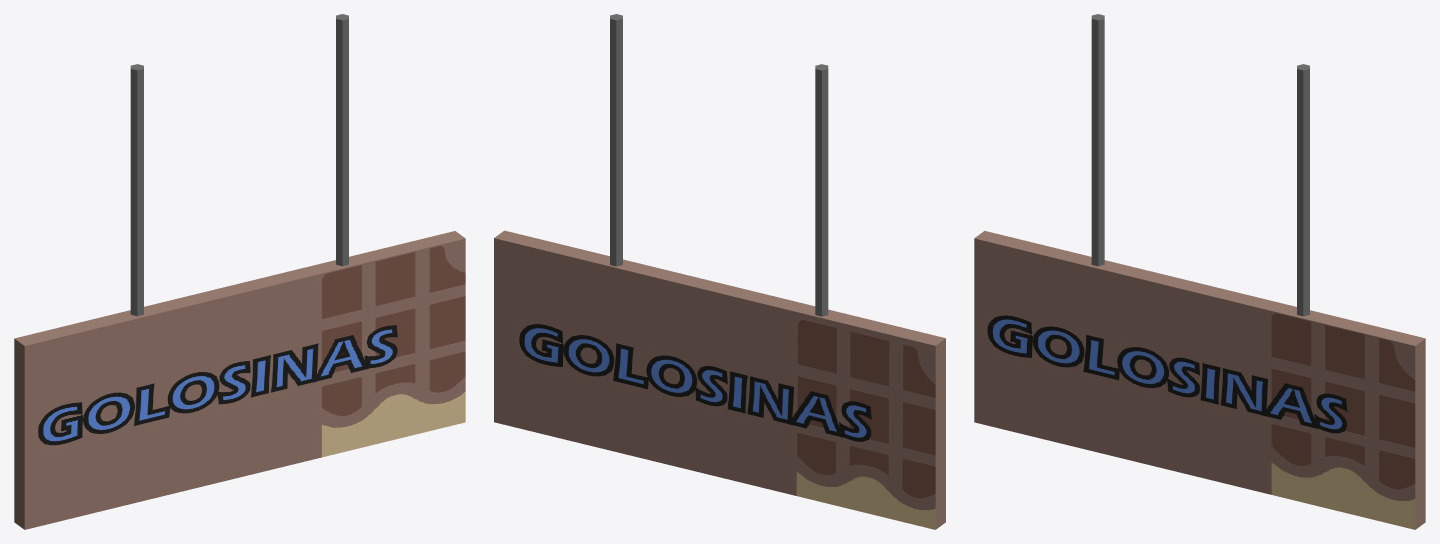
File: cartel_04.fbx
3 renders of one model, left to right at view 1: azimuth 30°, elevation 25°; view 2: azimuth 150°, elevation 25°; view 3: azimuth 330°, elevation 25°, orthographic.
Visible parts, largest first — view 1: Cartel GOLOSINAS; view 2: Cartel GOLOSINAS; view 3: Cartel GOLOSINAS.
Part boxes in pixels (x1,y1,x2,y2): Cartel GOLOSINAS: (14,14,465,529); Cartel GOLOSINAS: (494,14,945,529); Cartel GOLOSINAS: (974,14,1425,529).
Size of the model in its own units: 173 by 161 by 7.08.
3 materials, 1 textured.
